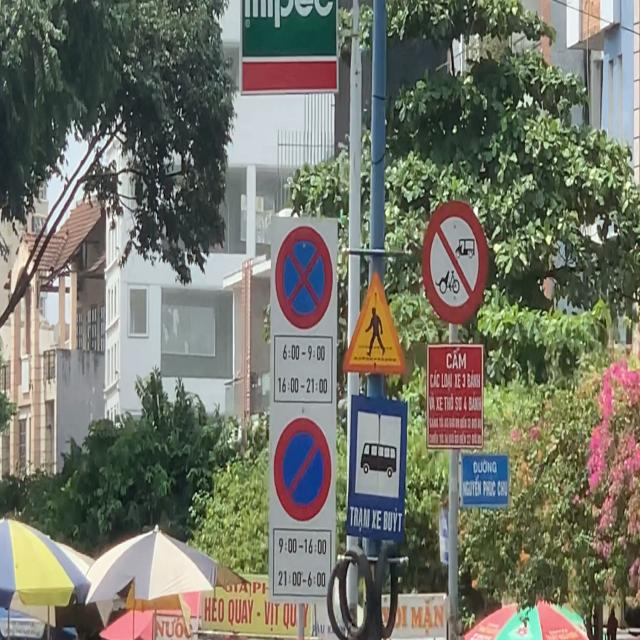Ben xe buyt: (346, 392, 409, 542)
Cam con lai: (423, 198, 488, 329)
Cam do: (270, 411, 338, 528)
Cam dung va do: (273, 222, 334, 332)
Nguoi di bo cat ngang: (340, 266, 408, 378)
